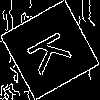K: (25, 25, 81, 76)
